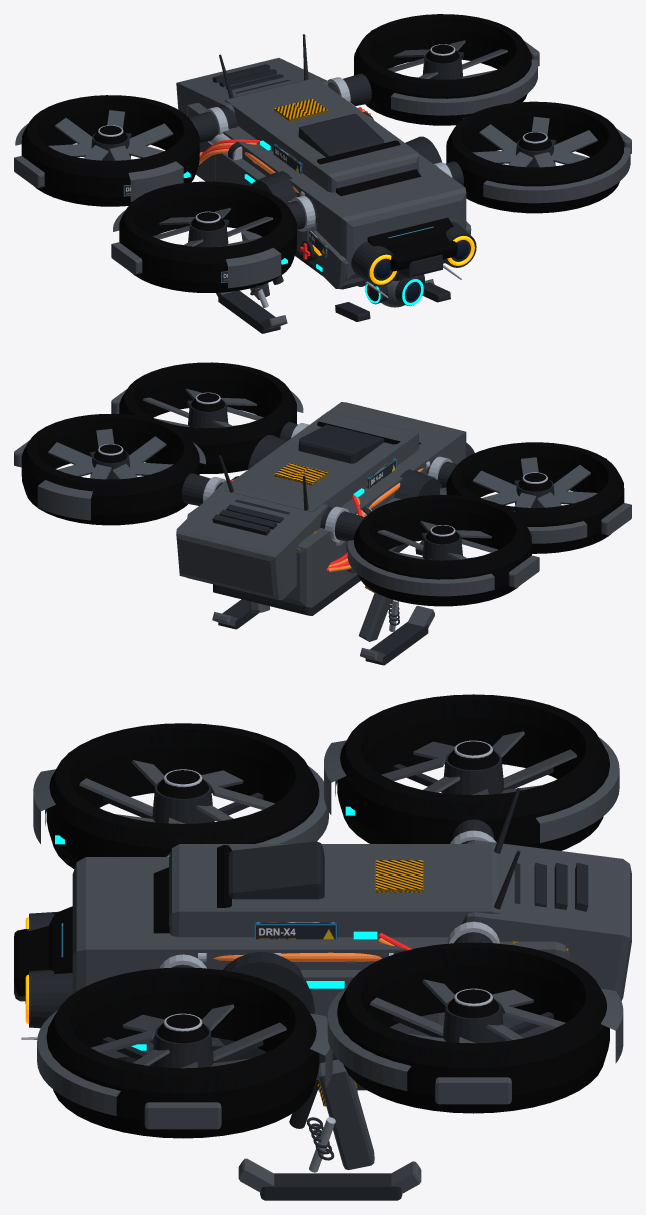
Rendered from DRN_X4_Drone.glb.
3 renders of one model, top to bottom at view 1: azimuth 30°, elevation 25°; view 2: azimuth 150°, elevation 25°; view 3: azimuth 270°, elevation 25°, orthographic. The views are drawn at different scales.
Visible parts, largest first — view 1: Hull_MainArmor_HullArmorGrey, Rotor_FL_Duct_CarbonFiber, Rotor_RL_Duct_CarbonFiber, Rotor_RR_Duct_CarbonFiber, Rotor_FR_Duct_CarbonFiber, Hull_MainArmor_DarkChassisMetal, Hull_CarbonNose_CarbonFiber, Rotor_FR_Duct_HullArmorGrey, Rotor_RR_Duct_HullArmorGrey, Rotor_RL_Blades_HullArmorGrey, Rotor_FR_Blades_HullArmorGrey, Rotor_FL_Duct_HullArmorGrey (+19 smaller); view 2: Hull_MainArmor_HullArmorGrey, Rotor_RR_Duct_CarbonFiber, Rotor_RL_Duct_CarbonFiber, Rotor_FR_Duct_CarbonFiber, Rotor_FL_Duct_CarbonFiber, Hull_MainArmor_DarkChassisMetal, Rotor_RL_Duct_HullArmorGrey, Rotor_FL_Blades_HullArmorGrey, Rotor_RR_Blades_HullArmorGrey, Rotor_RR_Duct_HullArmorGrey, Rotor_FL_Duct_HullArmorGrey, LandingGear_L_HullArmorGrey (+13 smaller); view 3: Hull_MainArmor_HullArmorGrey, Rotor_FR_Duct_CarbonFiber, Rotor_RR_Duct_CarbonFiber, Rotor_RL_Duct_CarbonFiber, Rotor_FL_Duct_CarbonFiber, Hull_MainArmor_DarkChassisMetal, Rotor_RR_Duct_HullArmorGrey, Rotor_FR_Duct_HullArmorGrey, Hull_CarbonNose_CarbonFiber, LandingGear_R_HullArmorGrey, LandingGear_R_DarkChassisMetal, Rotor_RL_Duct_HullArmorGrey (+20 smaller).
Part boxes in pixels (x1=…): Hull_MainArmor_HullArmorGrey: x1=176, y1=58, x2=471, y2=288; Rotor_FL_Duct_CarbonFiber: x1=119, y1=181, x2=296, y2=292; Rotor_RL_Duct_CarbonFiber: x1=21, y1=95, x2=199, y2=206; Rotor_RR_Duct_CarbonFiber: x1=354, y1=14, x2=531, y2=125; Rotor_FR_Duct_CarbonFiber: x1=446, y1=101, x2=624, y2=213; Hull_MainArmor_DarkChassisMetal: x1=212, y1=64, x2=441, y2=289; Hull_CarbonNose_CarbonFiber: x1=317, y1=140, x2=457, y2=271; Rotor_FR_Duct_HullArmorGrey: x1=462, y1=118, x2=631, y2=203; Rotor_RR_Duct_HullArmorGrey: x1=370, y1=29, x2=539, y2=115; Rotor_RL_Blades_HullArmorGrey: x1=48, y1=110, x2=173, y2=160; Rotor_FR_Blades_HullArmorGrey: x1=472, y1=116, x2=597, y2=167; Rotor_FL_Duct_HullArmorGrey: x1=111, y1=210, x2=281, y2=288; Hull_MainArmor_HullArmorGrey: x1=176, y1=402, x2=466, y2=607; Rotor_RR_Duct_CarbonFiber: x1=21, y1=413, x2=199, y2=525; Rotor_RL_Duct_CarbonFiber: x1=354, y1=495, x2=531, y2=606; Rotor_FR_Duct_CarbonFiber: x1=119, y1=362, x2=296, y2=473; Rotor_FL_Duct_CarbonFiber: x1=446, y1=442, x2=624, y2=553; Hull_MainArmor_DarkChassisMetal: x1=212, y1=424, x2=442, y2=615; Rotor_RL_Duct_HullArmorGrey: x1=347, y1=511, x2=539, y2=596; Rotor_FL_Blades_HullArmorGrey: x1=472, y1=457, x2=597, y2=507; Rotor_RR_Blades_HullArmorGrey: x1=48, y1=428, x2=173, y2=479; Rotor_RR_Duct_HullArmorGrey: x1=14, y1=440, x2=205, y2=520; Rotor_FL_Duct_HullArmorGrey: x1=440, y1=458, x2=631, y2=543; LandingGear_L_HullArmorGrey: x1=358, y1=592, x2=434, y2=662; Hull_MainArmor_HullArmorGrey: x1=72, y1=840, x2=631, y2=1058; Rotor_FR_Duct_CarbonFiber: x1=46, y1=967, x2=319, y2=1138; Rotor_RR_Duct_CarbonFiber: x1=337, y1=942, x2=609, y2=1113; Rotor_RL_Duct_CarbonFiber: x1=337, y1=694, x2=609, y2=850; Rotor_FL_Duct_CarbonFiber: x1=46, y1=723, x2=319, y2=868; Hull_MainArmor_DarkChassisMetal: x1=117, y1=841, x2=588, y2=1066; Rotor_RR_Duct_HullArmorGrey: x1=327, y1=985, x2=623, y2=1104; Rotor_FR_Duct_HullArmorGrey: x1=37, y1=1010, x2=332, y2=1129; Hull_CarbonNose_CarbonFiber: x1=14, y1=845, x2=231, y2=996; LandingGear_R_HullArmorGrey: x1=238, y1=1059, x2=421, y2=1194; LandingGear_R_DarkChassisMetal: x1=260, y1=1074, x2=402, y2=1200; Rotor_RL_Duct_HullArmorGrey: x1=324, y1=737, x2=619, y2=842.
Bounding box in the file's own units: 5.99 × 2.37 × 4.17.
11 materials, 3 textured.
